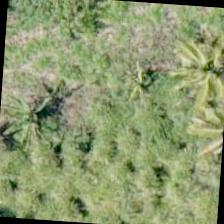Kelapa_Sawit: (171, 24, 223, 119)
